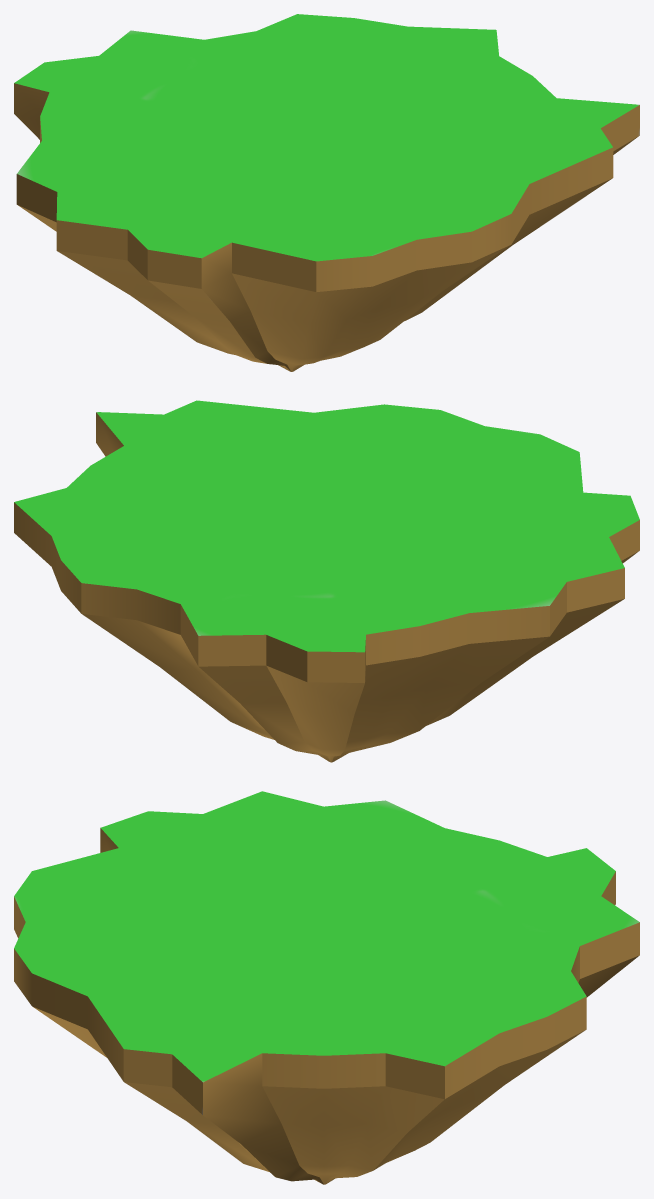
File: BasePlatform 1.fbx
3 views of the same model, one above another, from view 1: azimuth 30°, elevation 25°; view 2: azimuth 150°, elevation 25°; view 3: azimuth 270°, elevation 25° (orthographic). The views are drawn at different scales.
Visible parts, largest first — view 1: Circle; view 2: Circle; view 3: Circle.
Boxes of the visible parts, x1,y1,x2,y2 form: Circle: (14, 14, 639, 371); Circle: (14, 400, 639, 762); Circle: (14, 791, 639, 1184).
Size of the model in its own units: 1545 by 628 by 1404.
Materials: 1 (1 with a texture image).
